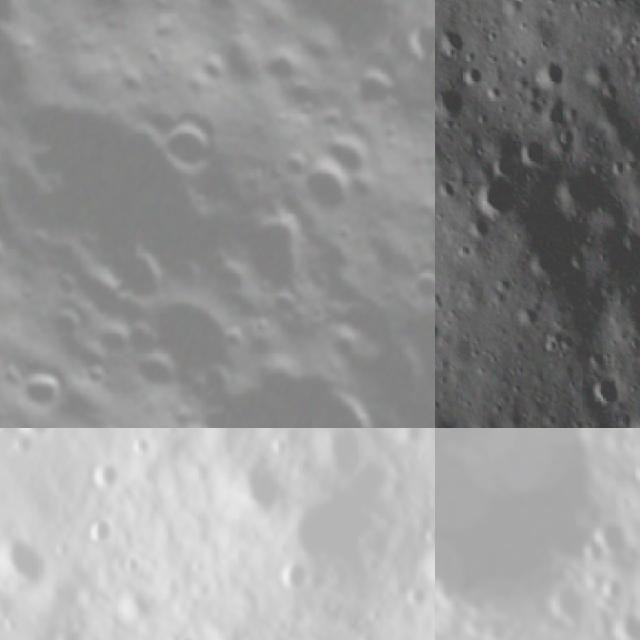crater: (435, 428, 627, 640), (124, 268, 258, 402), (220, 193, 340, 313), (277, 471, 392, 575), (147, 102, 239, 194), (282, 154, 362, 236), (223, 442, 294, 522), (126, 346, 194, 413), (346, 56, 412, 122), (0, 528, 60, 599), (318, 122, 382, 187), (15, 361, 79, 425), (251, 40, 309, 99), (315, 428, 376, 478), (272, 552, 318, 598), (400, 256, 435, 316), (85, 450, 128, 495), (476, 170, 522, 212), (0, 0, 41, 42), (0, 226, 25, 289), (78, 510, 118, 547), (524, 241, 561, 276), (516, 134, 549, 168), (416, 537, 435, 593), (401, 582, 435, 613), (435, 25, 471, 54), (532, 60, 568, 86), (435, 86, 463, 119), (590, 379, 626, 404), (465, 211, 492, 240), (494, 148, 516, 178), (456, 65, 487, 86), (556, 123, 578, 149), (543, 102, 570, 123), (435, 176, 456, 200), (3, 428, 56, 437), (625, 224, 640, 249)
